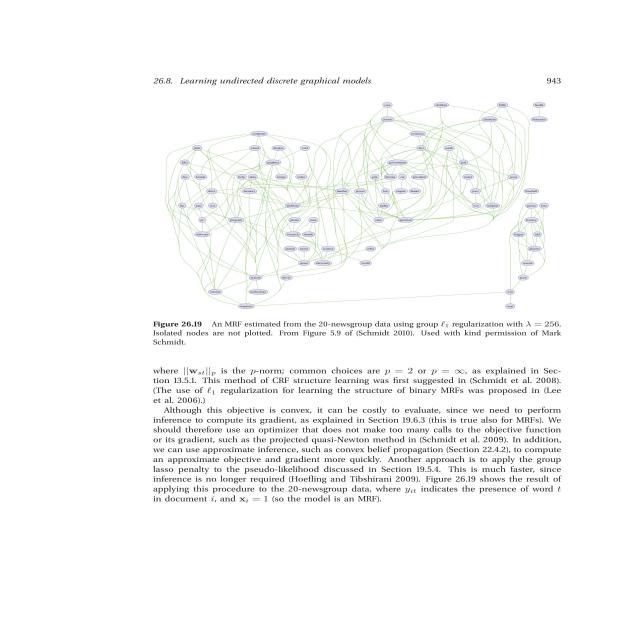diagram: (124, 93, 625, 359)
